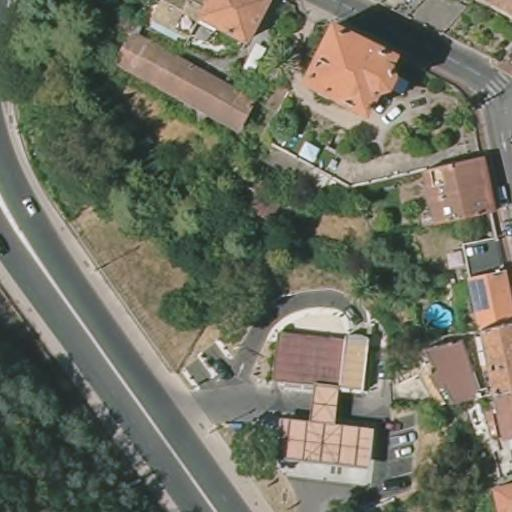pool: (422, 300, 457, 327)
